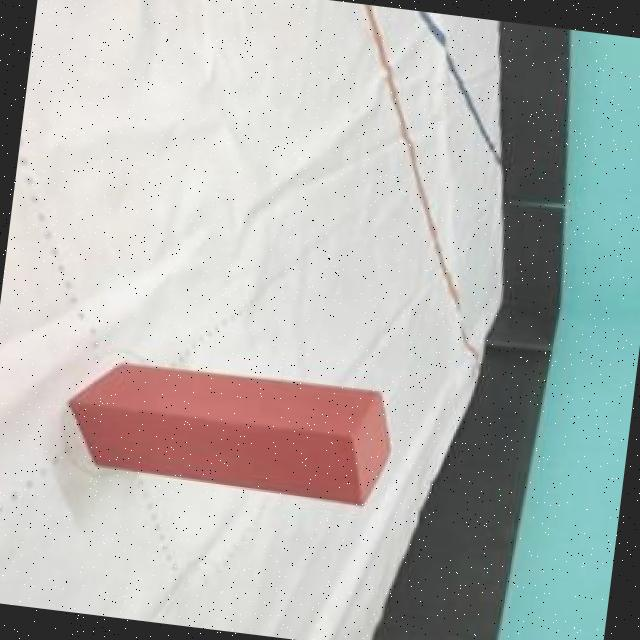redbox: (57, 349, 400, 511)
